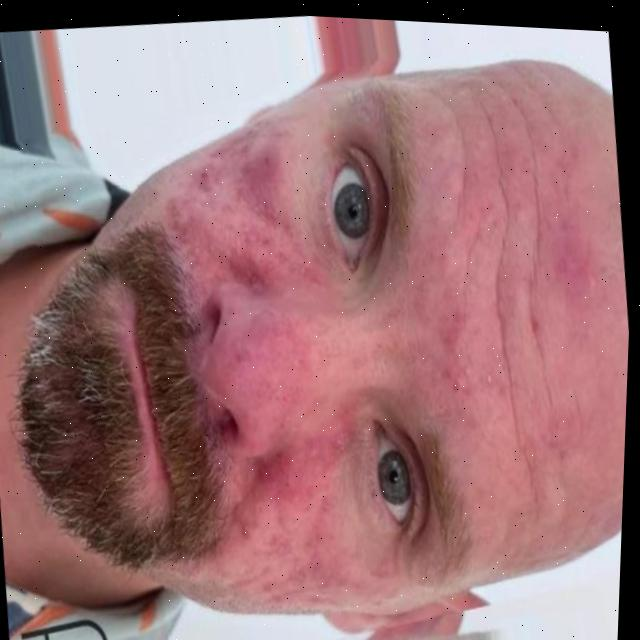Rosacea: (410, 119, 623, 523), (194, 420, 399, 634), (156, 110, 332, 321), (208, 297, 330, 453)
